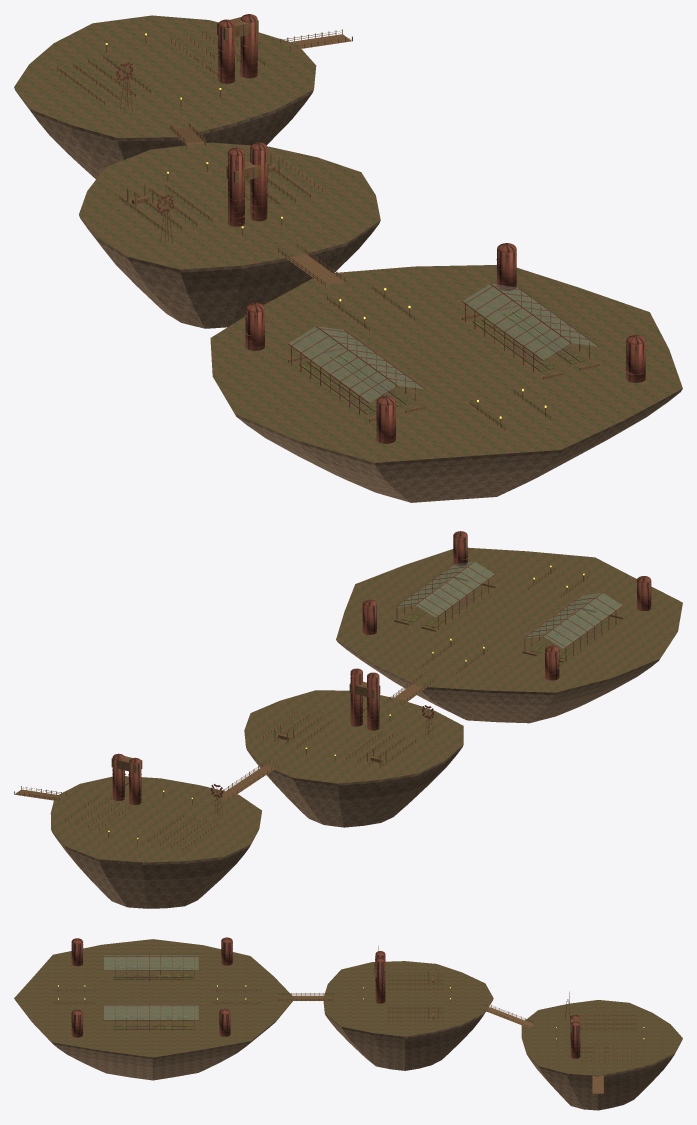
Rendered from solar-frontier-distant.glb.
3 views of the same model, one above another, from view 1: azimuth 30°, elevation 25°; view 2: azimuth 150°, elevation 25°; view 3: azimuth 270°, elevation 25° (orthographic). The views are drawn at different scales.
Visible parts, largest first — view 1: Pomar dos Ventos solid cultivated island; view 2: Pomar dos Ventos solid cultivated island; view 3: Pomar dos Ventos solid cultivated island.
Boxes of the visible parts, <box> form: Pomar dos Ventos solid cultivated island: <box>14,14,682,502</box>; Pomar dos Ventos solid cultivated island: <box>14,531,682,908</box>; Pomar dos Ventos solid cultivated island: <box>14,937,682,1110</box>.
Bounding box in the file's own units: 176 × 63.17 × 353.
Materials: 8 (6 with a texture image).
